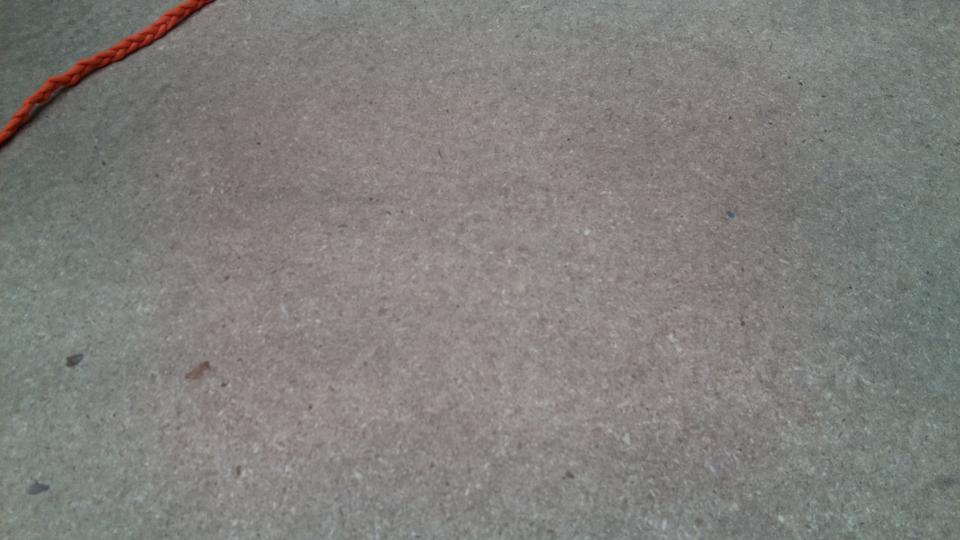rope: (1, 1, 196, 138)
